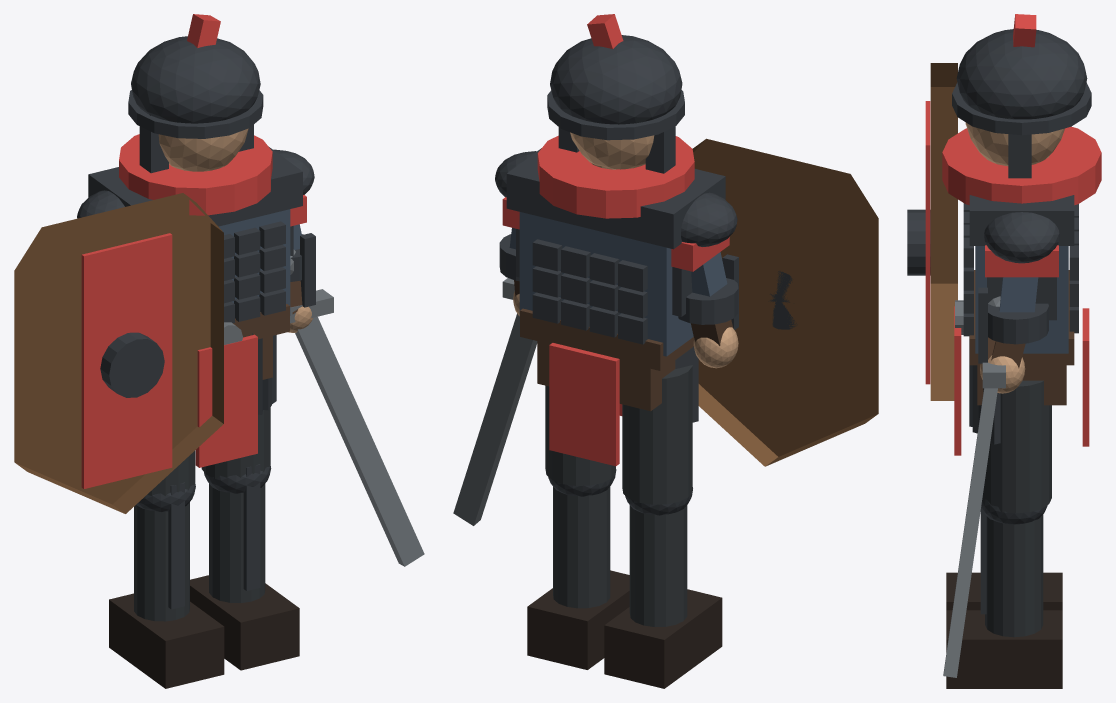
Rendered from CHR_Infantry_A_v001_LOD0_Red.glb.
The picture shows the model from 3 angles, left to right: view 1: azimuth 30°, elevation 25°; view 2: azimuth 150°, elevation 25°; view 3: azimuth 270°, elevation 25°; orthographic projection. The views are drawn at different scales.
Visible parts, largest first — view 1: Shield_Base, Team_ShieldPanel, HelmetDome, Boot_L, Sword_Blade, Team_Scarf, Team_Tabard_F, Boot_R, Shin_R, Shin_L, ChestPlate, Shield_Boss (+13 smaller); view 2: Shield_Base, HelmetDome, Thigh_L, Team_Scarf, Team_Tabard_B, Boot_L, Torso, Shin_L, Shin_R, ChestPlate, Sword_Blade, Boot_R (+28 smaller); view 3: HelmetDome, Shield_Base, Team_Scarf, Thigh_R, Boot_R, Shin_R, Sword_Blade, ShoulderPad_R, ChestPlate, HelmetBrim, Torso, ElbowGuard_R (+23 smaller).
Part boxes in pixels (x1,y1,x2,y2): Shield_Base: [14, 193, 223, 513]; Team_ShieldPanel: [81, 233, 172, 488]; HelmetDome: [131, 36, 260, 123]; Boot_L: [109, 593, 224, 688]; Sword_Blade: [295, 317, 424, 566]; Team_Scarf: [119, 134, 272, 215]; Team_Tabard_F: [195, 334, 257, 467]; Boot_R: [190, 575, 299, 670]; Shin_R: [209, 484, 265, 602]; Shin_L: [134, 502, 189, 621]; ChestPlate: [88, 146, 302, 226]; Shield_Boss: [100, 332, 164, 397]; Shield_Base: [692, 138, 878, 466]; HelmetDome: [550, 35, 682, 124]; Thigh_L: [622, 365, 692, 504]; Team_Scarf: [537, 135, 694, 218]; Team_Tabard_B: [549, 343, 619, 466]; Boot_L: [604, 589, 722, 688]; Torso: [519, 212, 693, 356]; Shin_L: [629, 505, 687, 626]; Shin_R: [553, 486, 610, 608]; ChestPlate: [506, 148, 725, 249]; Sword_Blade: [453, 313, 537, 525]; Boot_R: [527, 570, 629, 669]; HelmetDome: [956, 29, 1087, 119]; Shield_Base: [930, 63, 957, 400]; Team_Scarf: [942, 126, 1101, 205]; Thigh_R: [982, 380, 1051, 513]; Boot_R: [946, 610, 1062, 688]; Shin_R: [985, 514, 1043, 637]; Sword_Blade: [943, 388, 997, 677]; ShoulderPad_R: [984, 212, 1059, 263]; ChestPlate: [969, 195, 1074, 245]; HelmetBrim: [952, 82, 1091, 135]; Torso: [975, 246, 1068, 353]; ElbowGuard_R: [988, 303, 1048, 344].
Size of the model in its own units: 1.23 by 1.83 by 0.5.
Materials: 2 (2 with a texture image).
